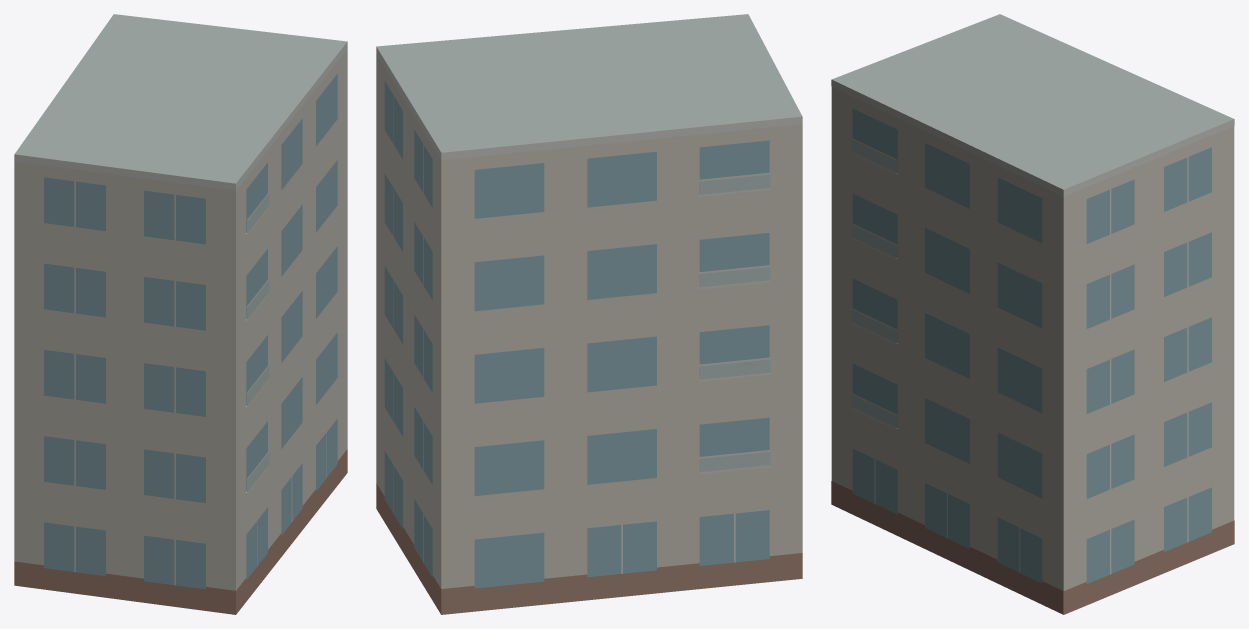
File: survey-upis-32835190.glb
3 renders of one model, left to right at view 1: azimuth 30°, elevation 25°; view 2: azimuth 150°, elevation 25°; view 3: azimuth 270°, elevation 25°, orthographic. The views are drawn at different scales.
Parts seen in each view (by area): view 1: survey-upis-32835190.tmp; view 2: survey-upis-32835190.tmp; view 3: survey-upis-32835190.tmp.
Part boxes in pixels (box(x1,y1,x2,y2)): survey-upis-32835190.tmp: box(14, 14, 347, 614); survey-upis-32835190.tmp: box(376, 14, 802, 614); survey-upis-32835190.tmp: box(831, 14, 1234, 614).
Bounding box in the file's own units: 13.13 × 14.8 × 12.72.
